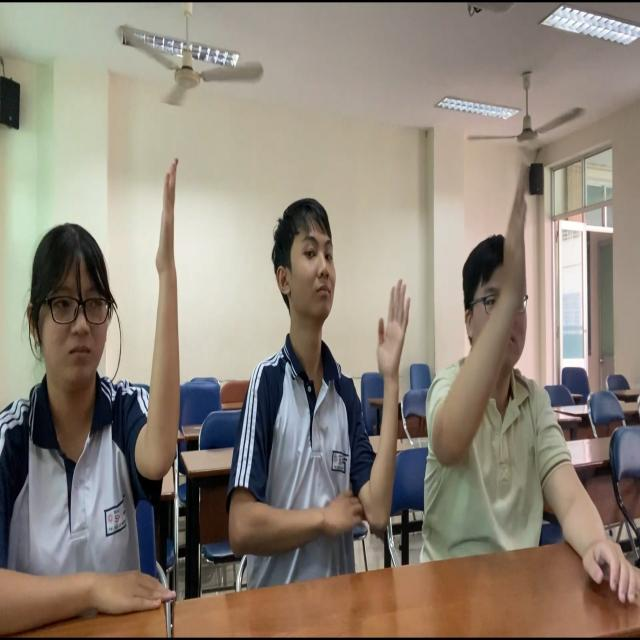raise_hand: (420, 159, 640, 618), (1, 136, 185, 634)
